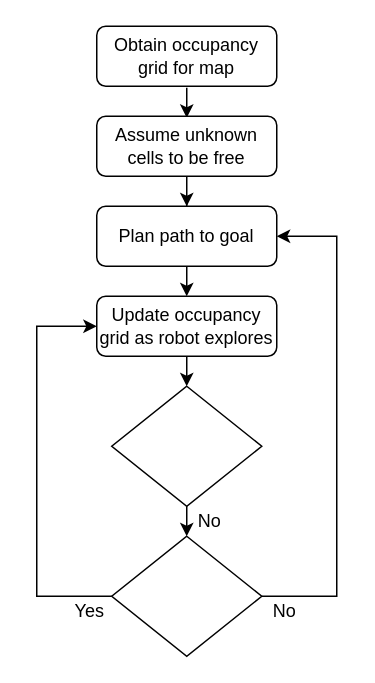
The diagram is 375 pixels wide and 683 high, and some of its shapes have lost their labels. Each missing label, with the centre of its shape:
Current Path traversable?: point (186, 595)
Reached Goal?: point (186, 445)
